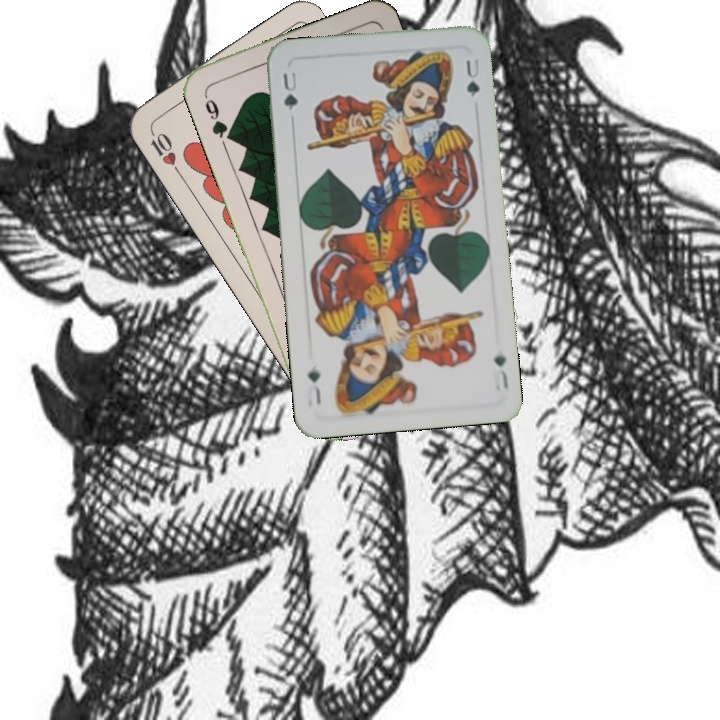G9: (199, 89, 235, 143)
GU: (278, 66, 301, 113), (489, 350, 511, 394)
H10: (145, 124, 184, 177)
